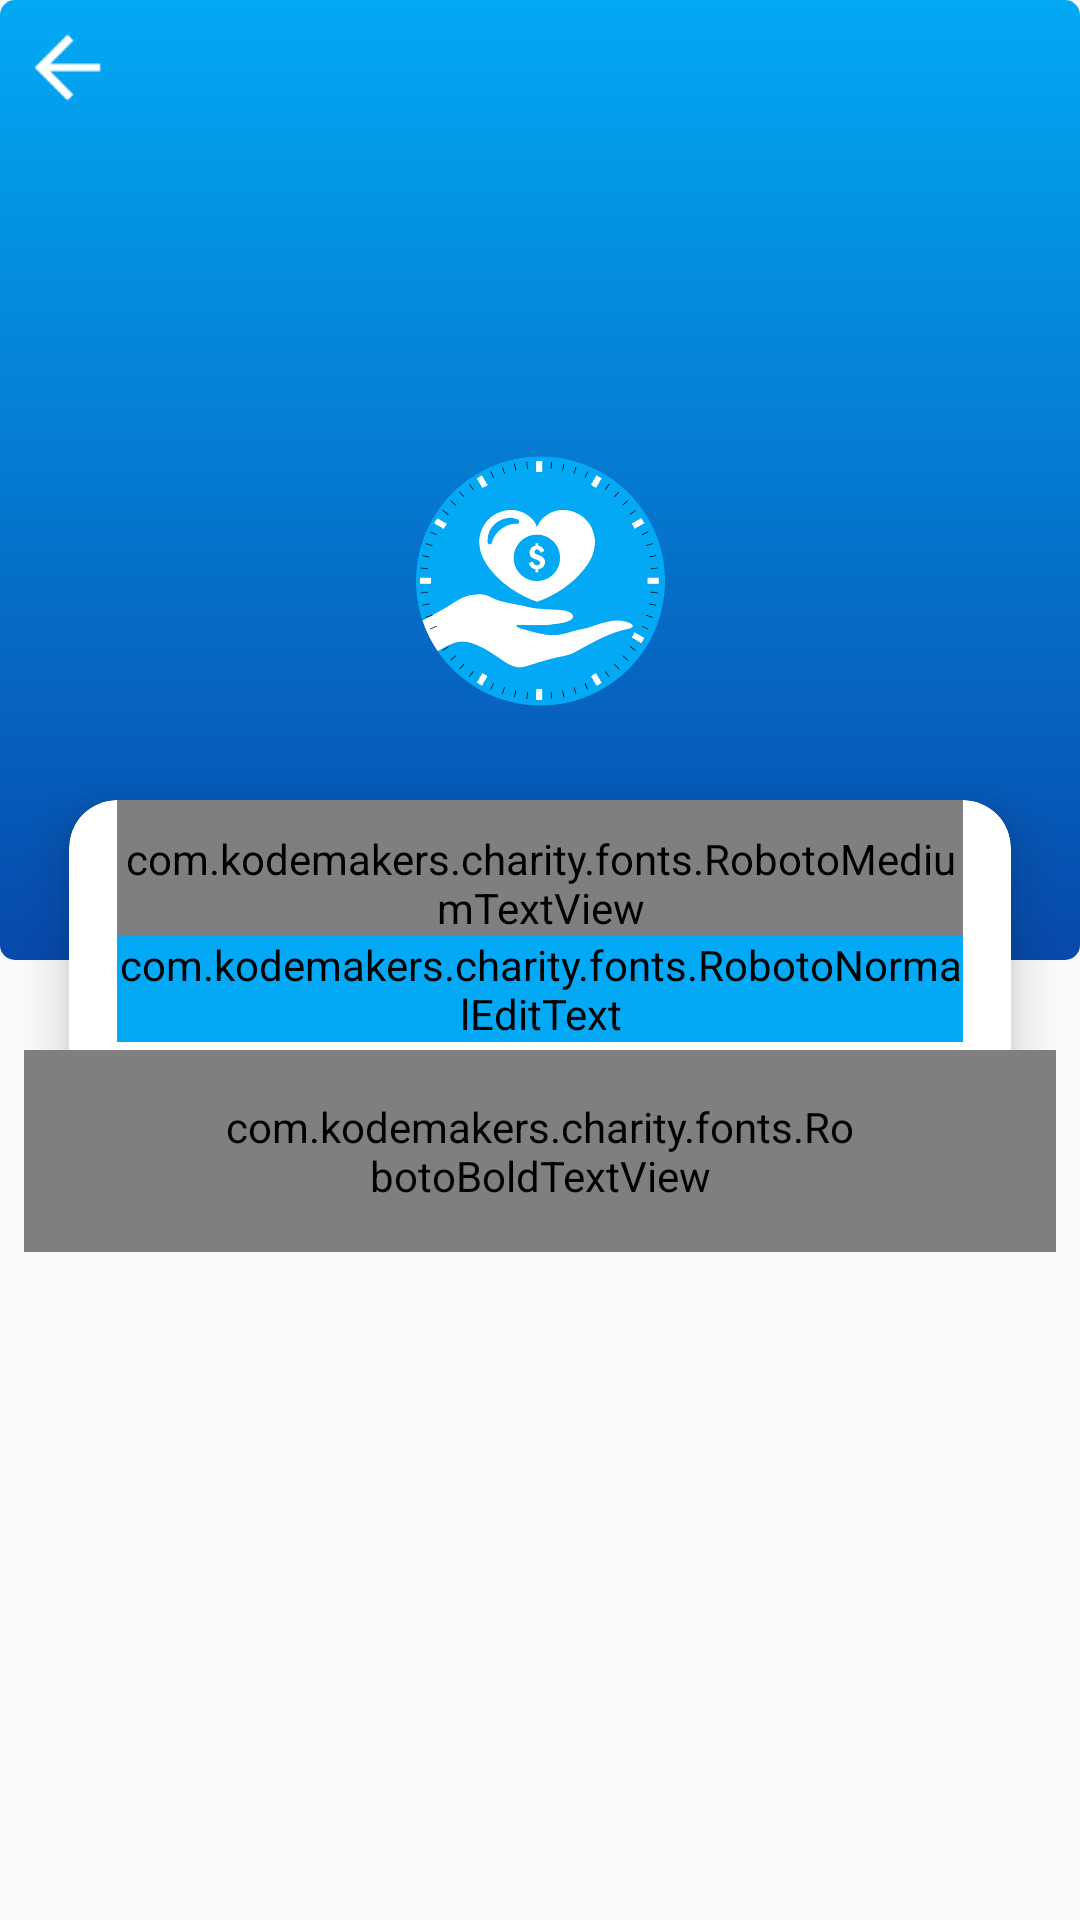

Where to tap for icons on this 1080px x 1920px app screen, as point (x, y):
arrow back: point (50, 50)
